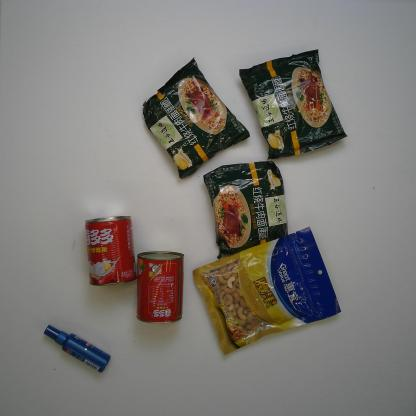Canned Food: (84, 216, 138, 286), (136, 251, 184, 324)
Dried Fruit: (192, 226, 342, 356)
Instant Noodles: (143, 56, 250, 180), (238, 48, 348, 161), (203, 160, 288, 260)
Personal Hygiene: (43, 324, 111, 374)
